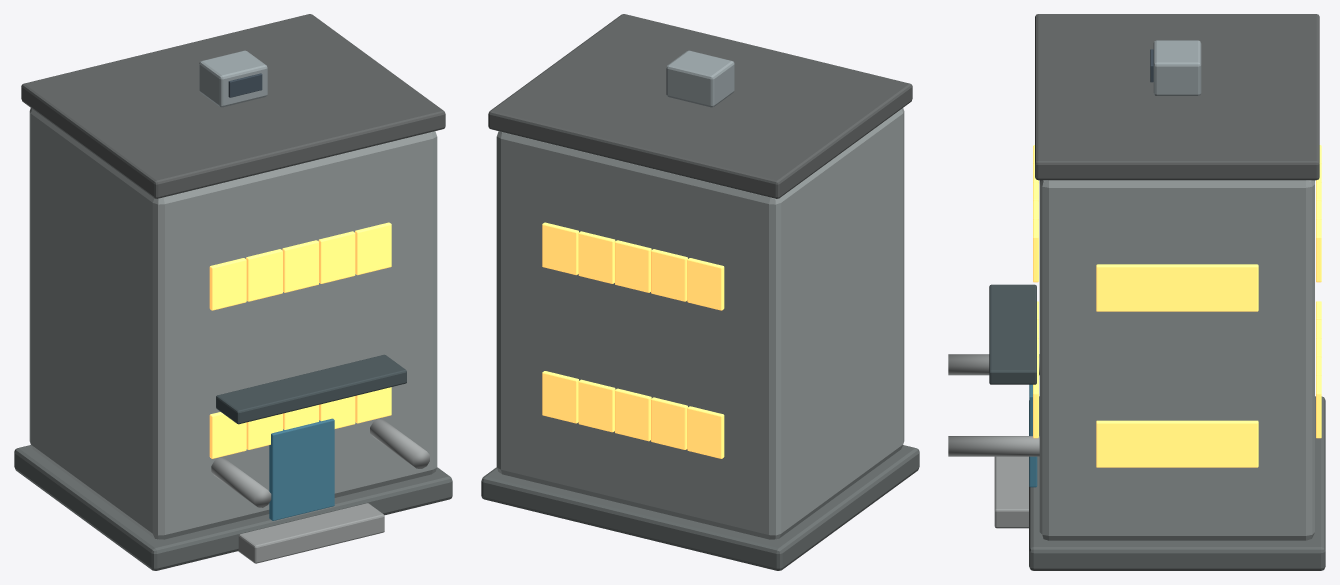
The model's file is civic_clinic.glb.
3 views of the same model, side by side, from view 1: azimuth 30°, elevation 25°; view 2: azimuth 150°, elevation 25°; view 3: azimuth 270°, elevation 25° (orthographic). The views are drawn at different scales.
Parts seen in each view (by area): view 1: main_massing, roof_slab, foundation, civic_canopy, civic_entrance, civic_steps, hvac_unit, front_window.005, front_window.008, front_window.006, front_window.009, front_window.007 (+8 smaller); view 2: main_massing, roof_slab, foundation, hvac_unit, rear_window.005, rear_window, rear_window.008, rear_window.003, rear_window.004, rear_window.006, rear_window.009, rear_window.001 (+2 smaller); view 3: main_massing, roof_slab, foundation, civic_canopy, hvac_unit, civic_steps, side_window.007, side_window, side_window.003, side_window.004, side_window.005, side_window.006 (+5 smaller).
Boxes of the visible parts, x1,y1,x2,y2 form: main_massing: (29,108,437,539); roof_slab: (21,14,445,198); foundation: (14,445,452,570); civic_canopy: (216,354,406,424); civic_entrance: (269,418,334,520); civic_steps: (238,503,384,563); hvac_unit: (199,50,267,107); front_window.005: (209,258,246,310); front_window.008: (318,231,355,283); front_window.006: (246,249,282,301); front_window.009: (355,222,391,275); front_window.007: (282,240,318,292); main_massing: (496,108,904,539); roof_slab: (488,14,912,198); foundation: (481,445,919,570); hvac_unit: (666,50,734,107); rear_window.005: (687,258,724,310); rear_window: (687,406,724,458); rear_window.008: (578,231,615,283); rear_window.003: (578,379,615,432); rear_window.004: (542,371,578,423); rear_window.006: (651,249,687,301); rear_window.009: (542,222,578,275); rear_window.001: (651,397,687,449); main_massing: (1039,180,1314,540); roof_slab: (1035,14,1319,180); foundation: (1029,396,1325,570); civic_canopy: (989,284,1036,384); hvac_unit: (1153,40,1201,95); civic_steps: (994,456,1028,528); side_window.007: (1096,264,1137,311); side_window: (1217,420,1258,467); side_window.003: (1096,420,1137,467); side_window.004: (1217,264,1258,311); side_window.005: (1177,264,1217,311); side_window.006: (1137,264,1177,311).
Size of the model in its own units: 1.38 by 1.85 by 1.42.
